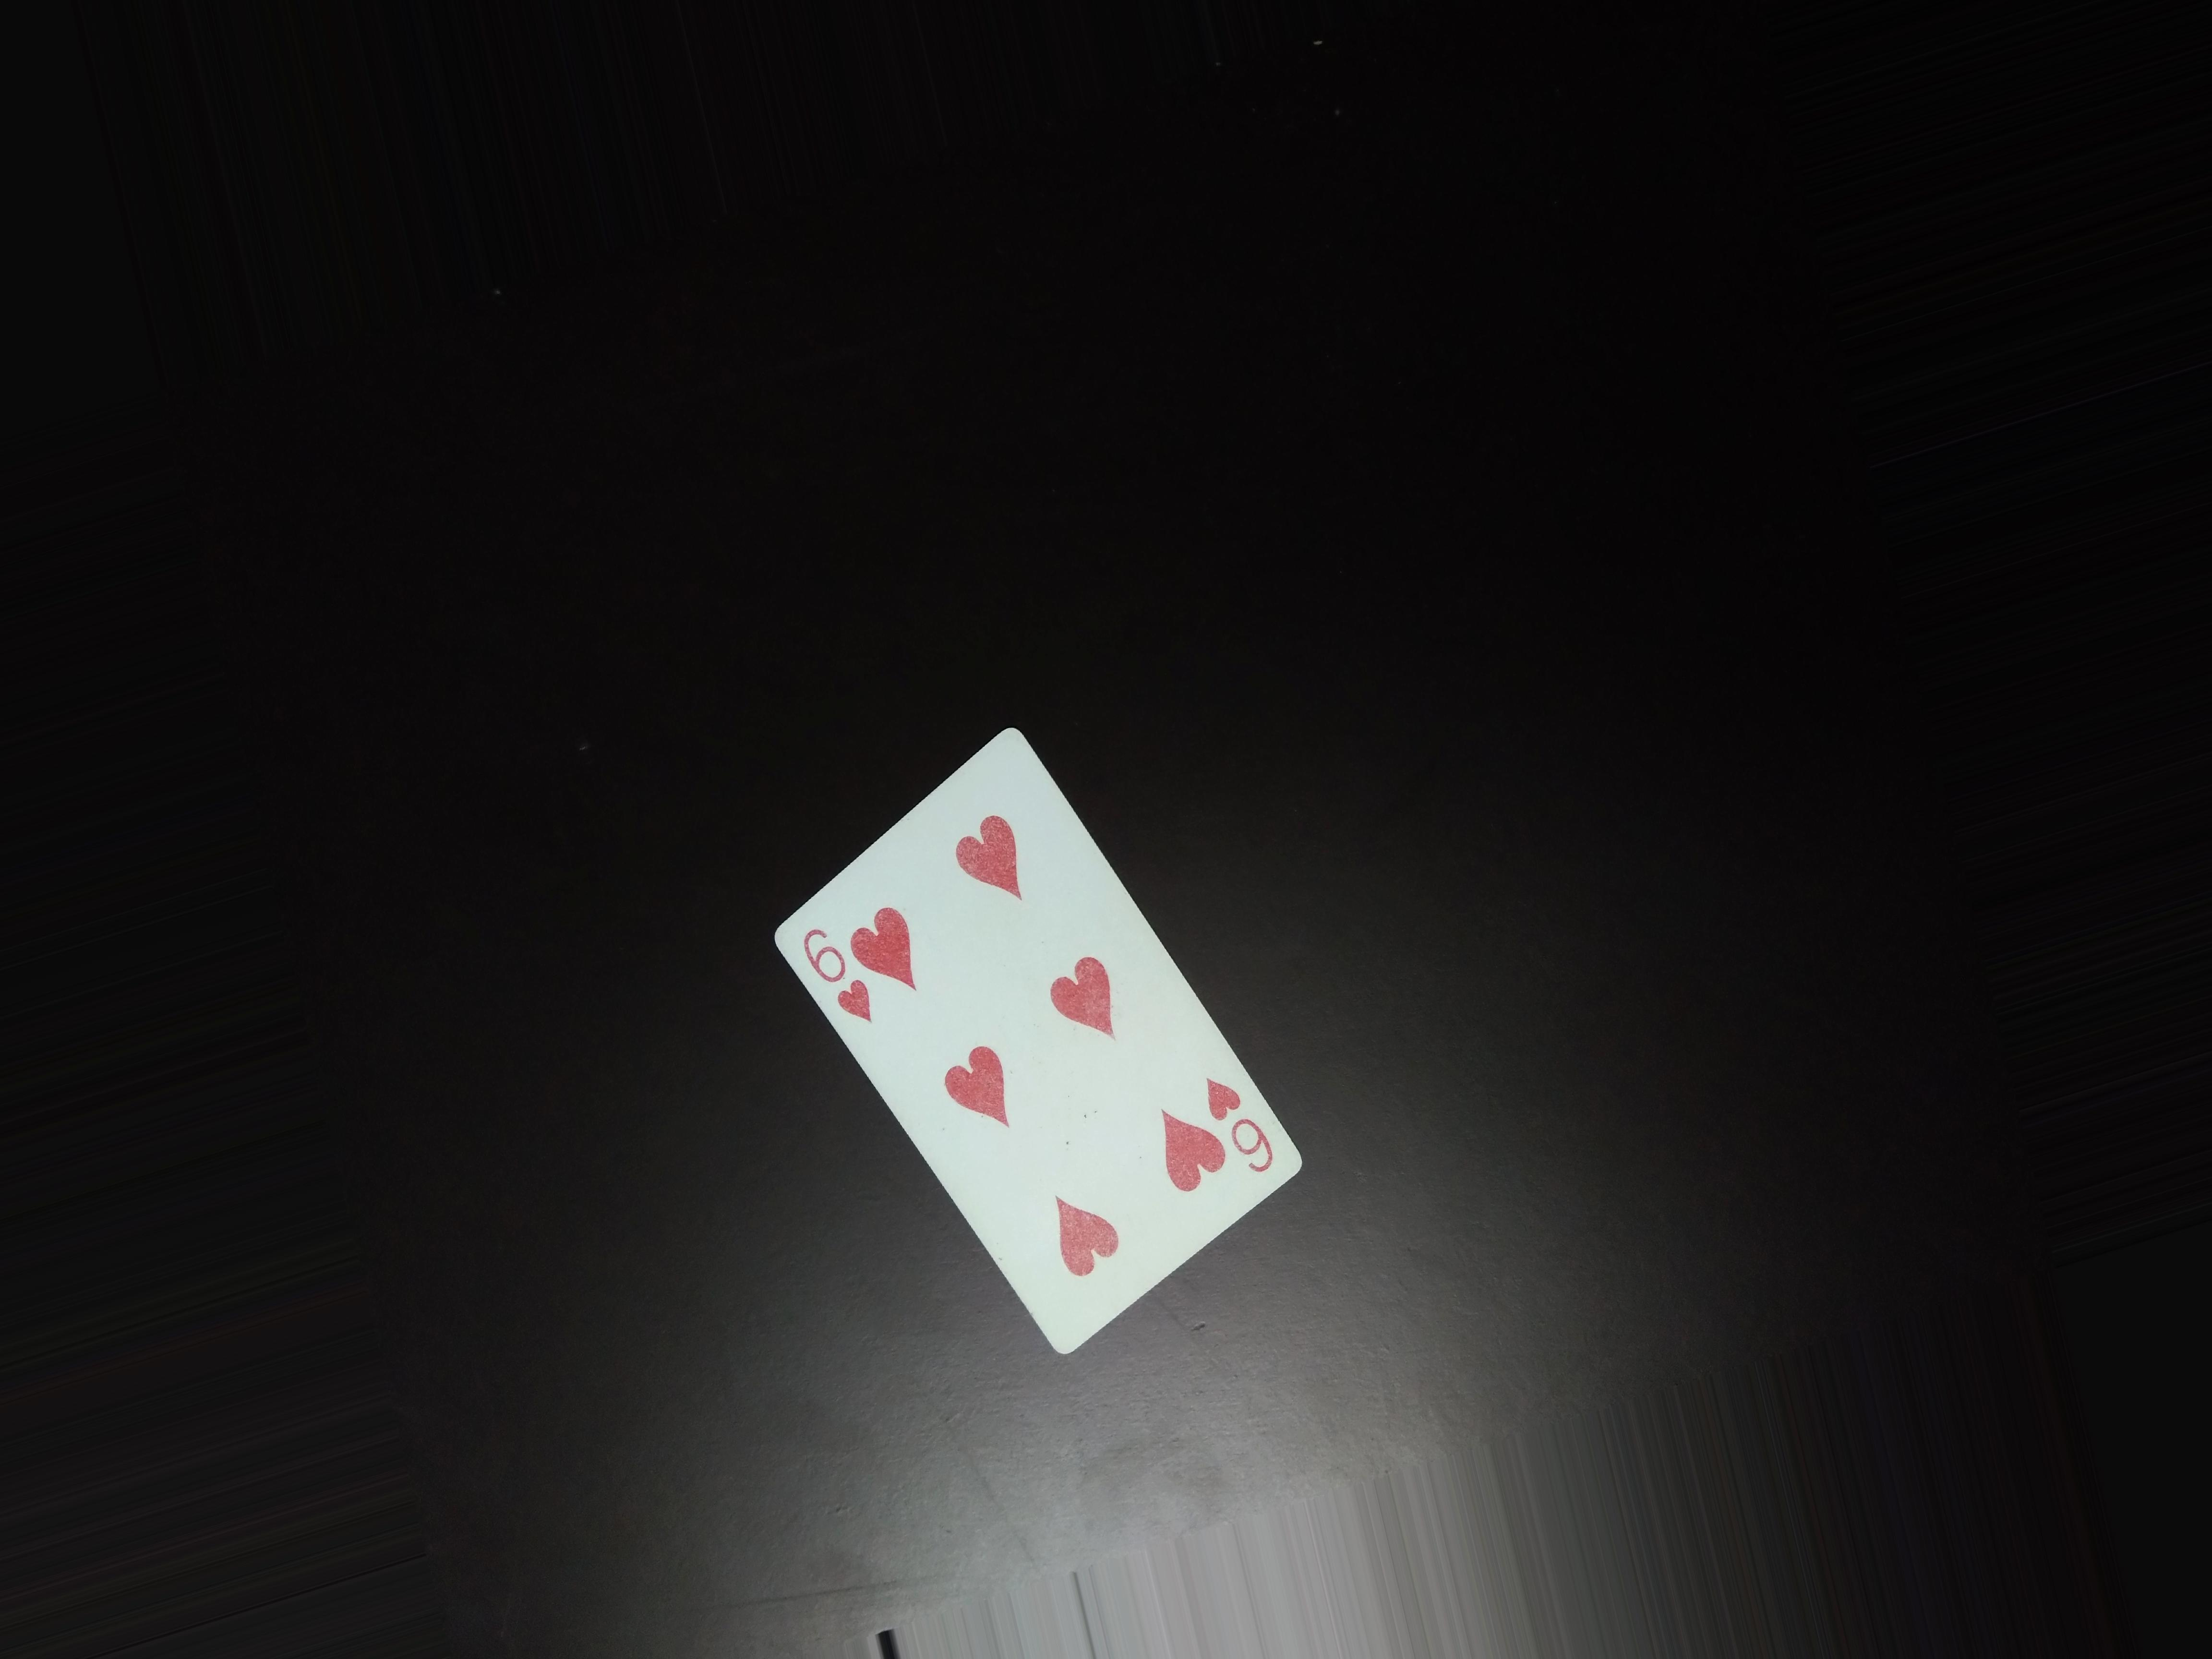6H: (798, 913, 881, 1018)
